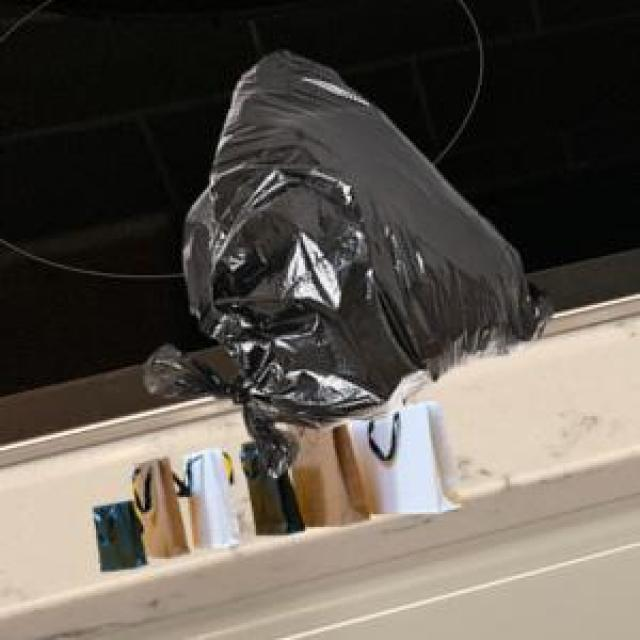miscellaneous trash: (141, 47, 548, 474)
paper: (90, 397, 457, 568)
